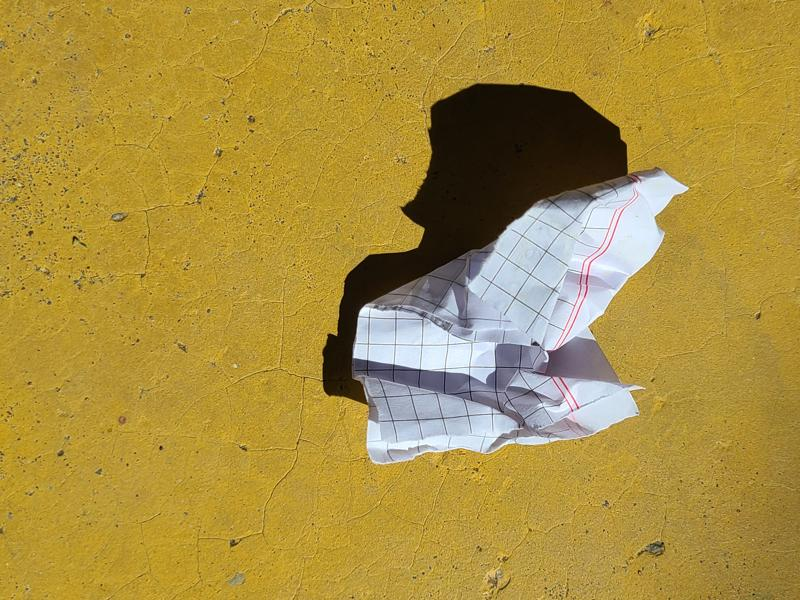papel: (351, 170, 688, 464)
